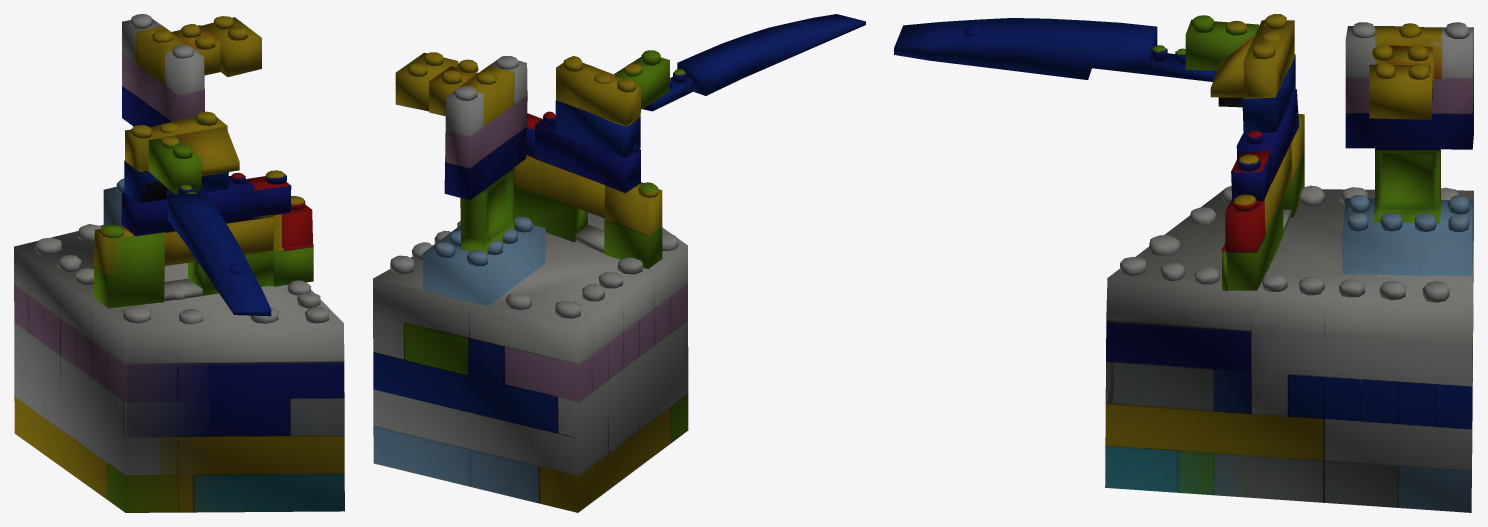
The model's file is object_52_asset_4b738d51.glb.
3 renders of one model, left to right at view 1: azimuth 30°, elevation 25°; view 2: azimuth 150°, elevation 25°; view 3: azimuth 270°, elevation 25°, orthographic. The views are drawn at different scales.
Visible parts, largest first — view 1: tripo_node_3a1db0a7-8c98-454b-95d0-7e41d7b8a33d; view 2: tripo_node_3a1db0a7-8c98-454b-95d0-7e41d7b8a33d; view 3: tripo_node_3a1db0a7-8c98-454b-95d0-7e41d7b8a33d.
Part boxes in pixels (x1=…): tripo_node_3a1db0a7-8c98-454b-95d0-7e41d7b8a33d: x1=14, y1=14, x2=344, y2=512; tripo_node_3a1db0a7-8c98-454b-95d0-7e41d7b8a33d: x1=373, y1=14, x2=865, y2=512; tripo_node_3a1db0a7-8c98-454b-95d0-7e41d7b8a33d: x1=894, y1=14, x2=1473, y2=512.
Bounding box in the file's own units: 0.5371 × 0.834 × 0.998.
1 material, 1 textured.
